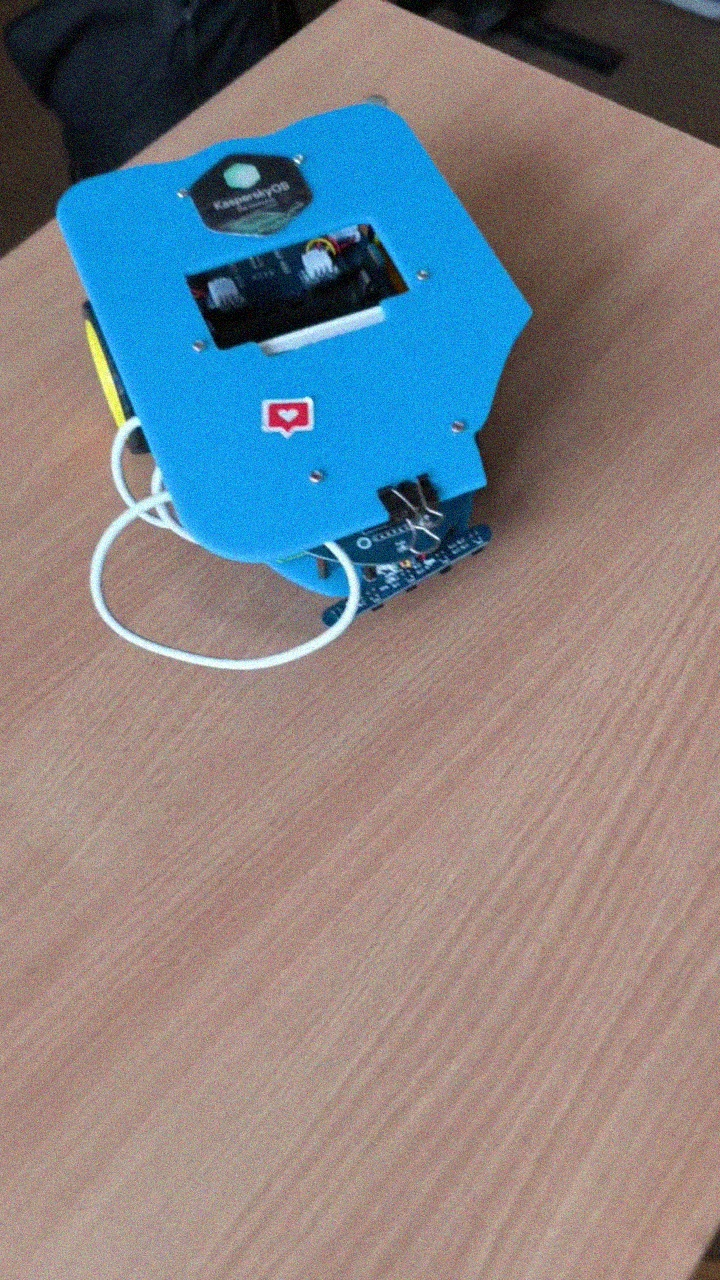robot: (56, 97, 536, 675)
